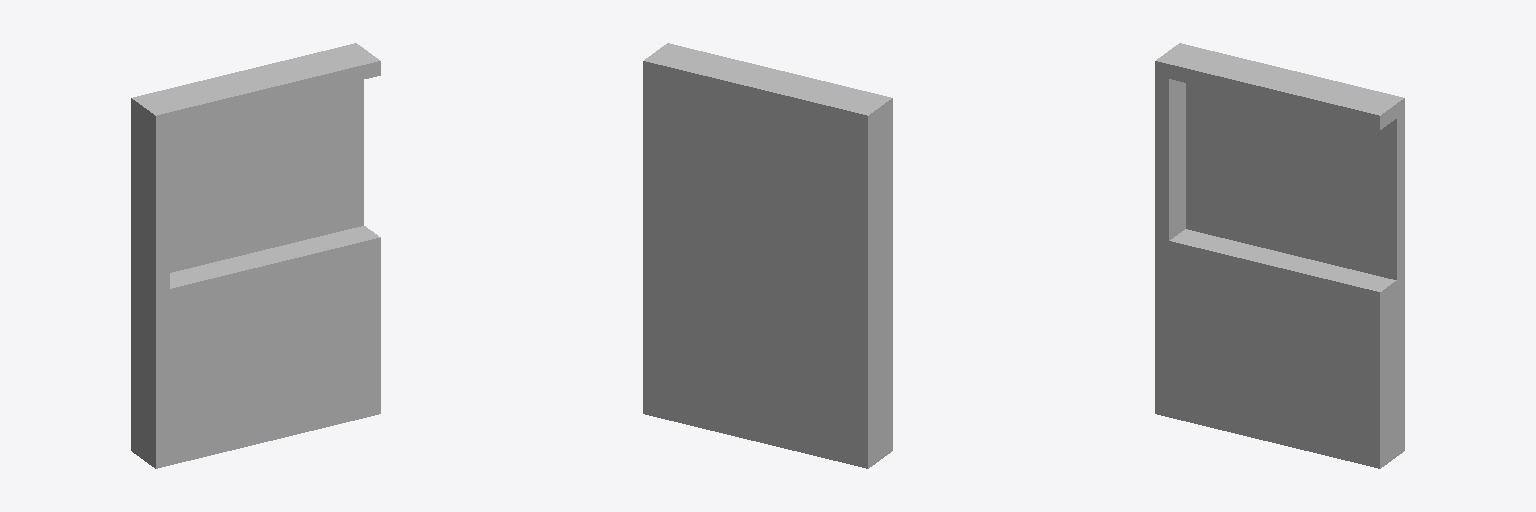
Rendered from 3D Voxel Office Pack-118.obj.
The picture shows the model from 3 angles: view 1: azimuth 30°, elevation 25°; view 2: azimuth 150°, elevation 25°; view 3: azimuth 330°, elevation 25°; orthographic projection.
Visible parts, largest first — view 1: object 1; view 2: object 1; view 3: object 1.
Boxes of the visible parts, box(x1,y1,x2,y2) form: object 1: box(131, 43, 380, 468); object 1: box(643, 43, 892, 468); object 1: box(1155, 43, 1404, 468).
Size of the model in its own units: 1.6 by 2.4 by 0.3.